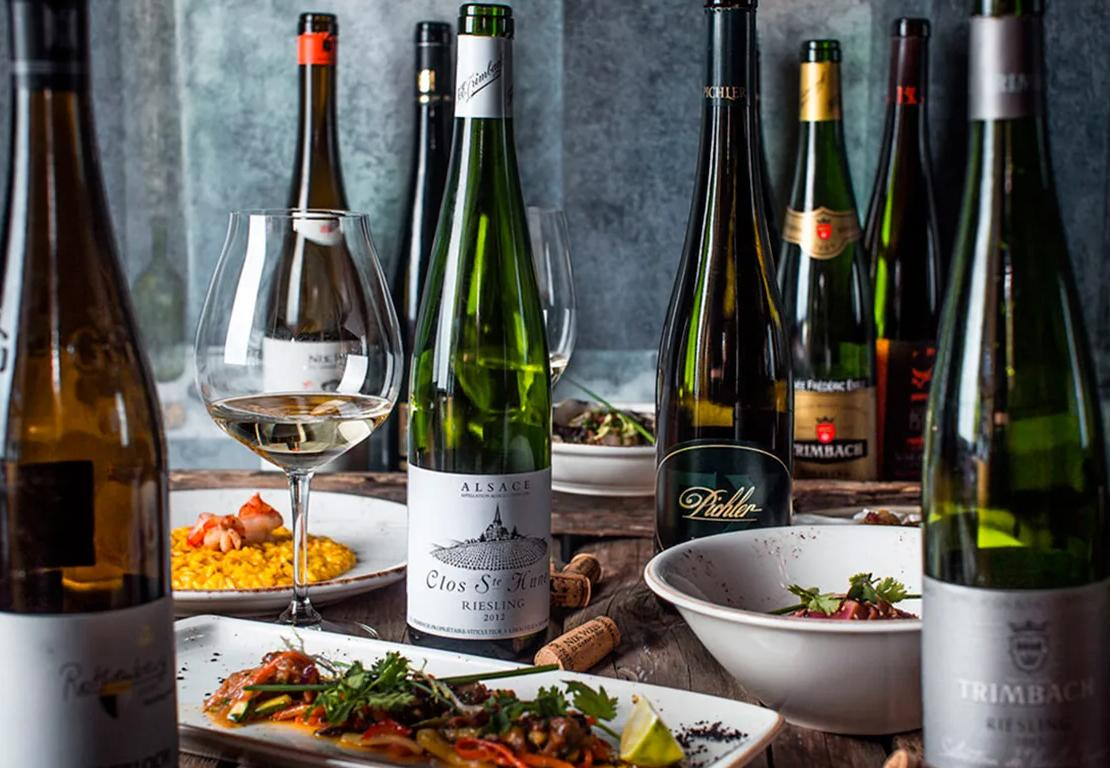wine bottle: (922, 0, 1110, 768), (1, 0, 179, 768), (406, 4, 551, 662), (654, 0, 793, 556), (261, 13, 396, 472), (778, 39, 878, 483), (861, 18, 949, 483), (381, 19, 454, 472)
wine label: (928, 574, 1110, 767), (1, 594, 180, 768), (408, 463, 548, 639), (655, 437, 793, 552), (261, 335, 372, 470), (794, 376, 877, 483), (876, 331, 931, 485), (397, 401, 409, 458)
